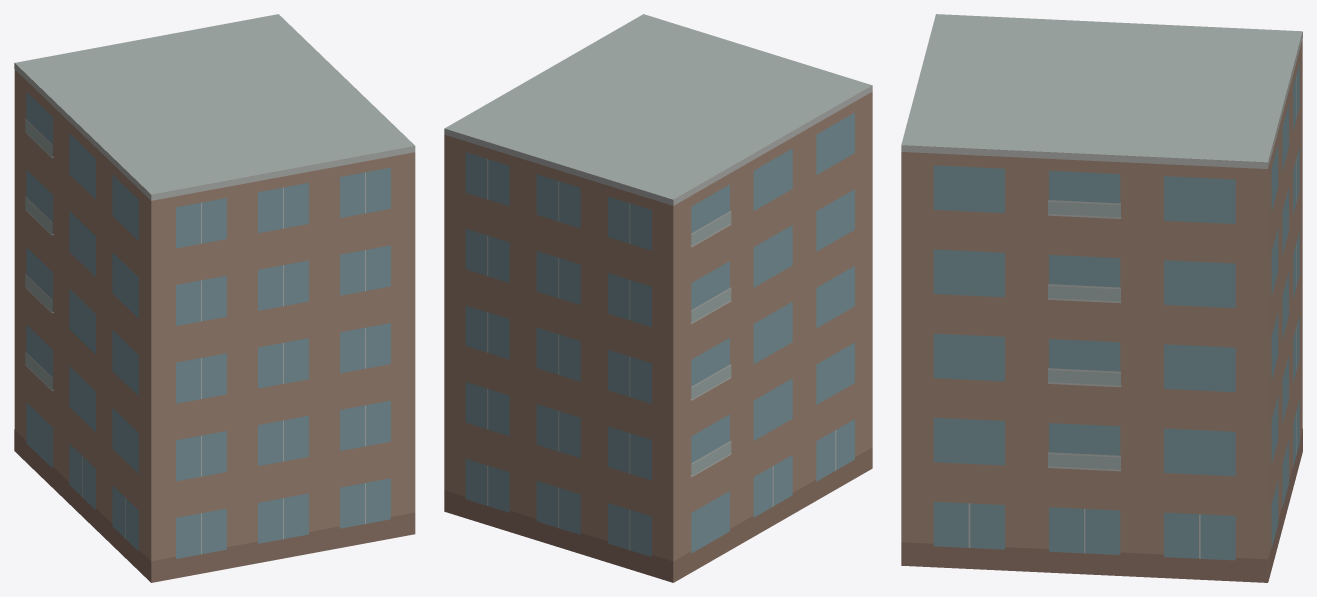
File: survey-upis-32976646.glb
3 views of the same model, side by side, from view 1: azimuth 30°, elevation 25°; view 2: azimuth 150°, elevation 25°; view 3: azimuth 270°, elevation 25° (orthographic). The views are drawn at different scales.
Parts seen in each view (by area): view 1: survey-upis-32976646.tmp; view 2: survey-upis-32976646.tmp; view 3: survey-upis-32976646.tmp.
Boxes of the visible parts, x1,y1,x2,y2 form: survey-upis-32976646.tmp: (14, 14, 415, 582); survey-upis-32976646.tmp: (444, 14, 872, 582); survey-upis-32976646.tmp: (901, 14, 1302, 582).
Size of the model in its own units: 11.51 by 15.2 by 13.16.
